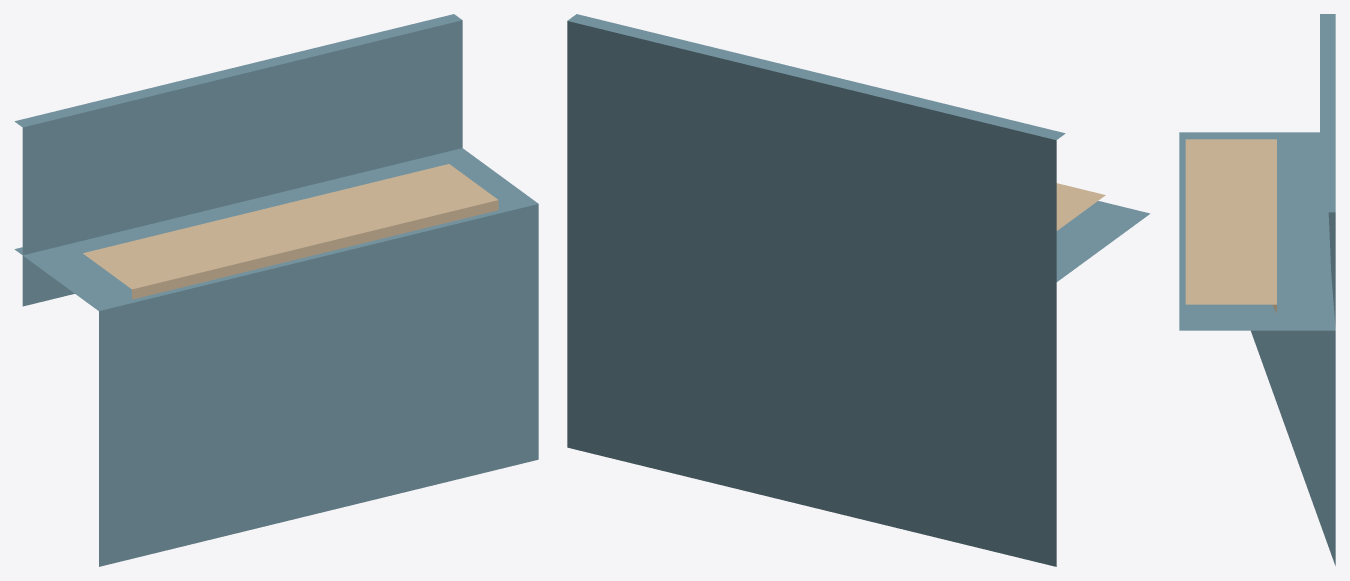
Rendered from counter-booth.glb.
3 renders of one model, left to right at view 1: azimuth 30°, elevation 25°; view 2: azimuth 150°, elevation 25°; view 3: azimuth 270°, elevation 25°, orthographic. The views are drawn at different scales.
Size of the model in its own units: 1.8 by 1.5 by 0.6.
